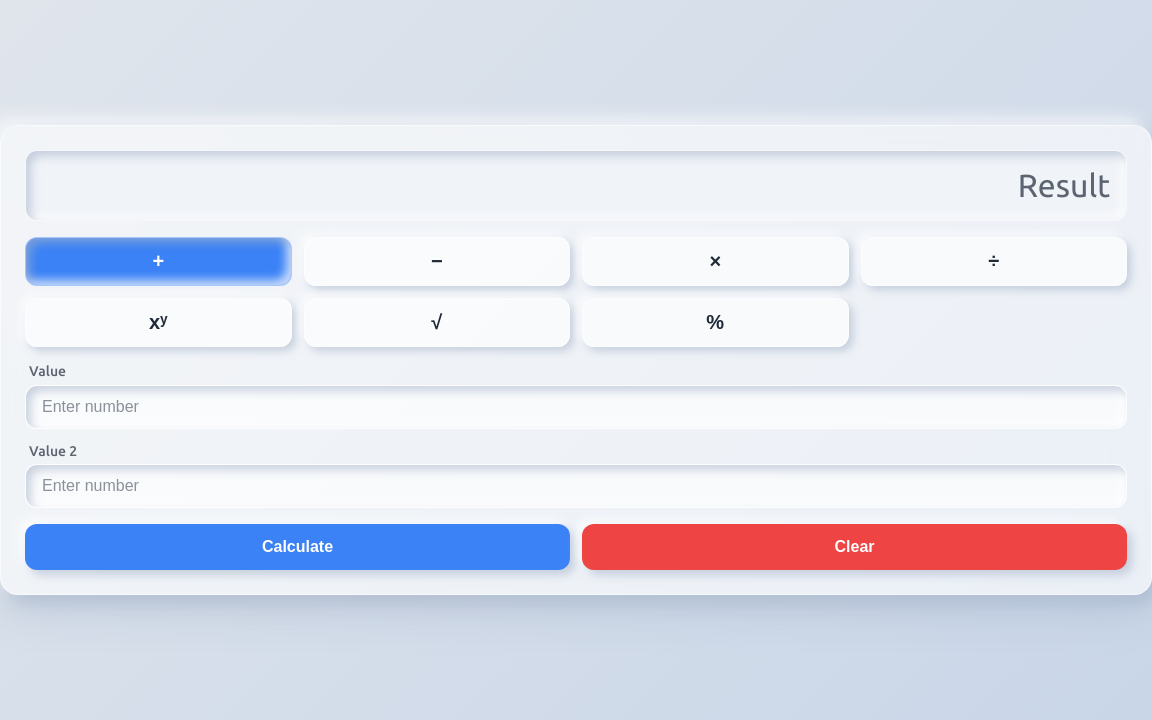
Scenario: Calculator handleCalculate › shows a validation error when operand a is empty
The width and height of the screenshot is (1152, 720).
Click the button with test id "calculate-btn".
click(298, 547)  # box [25,524,570,570]
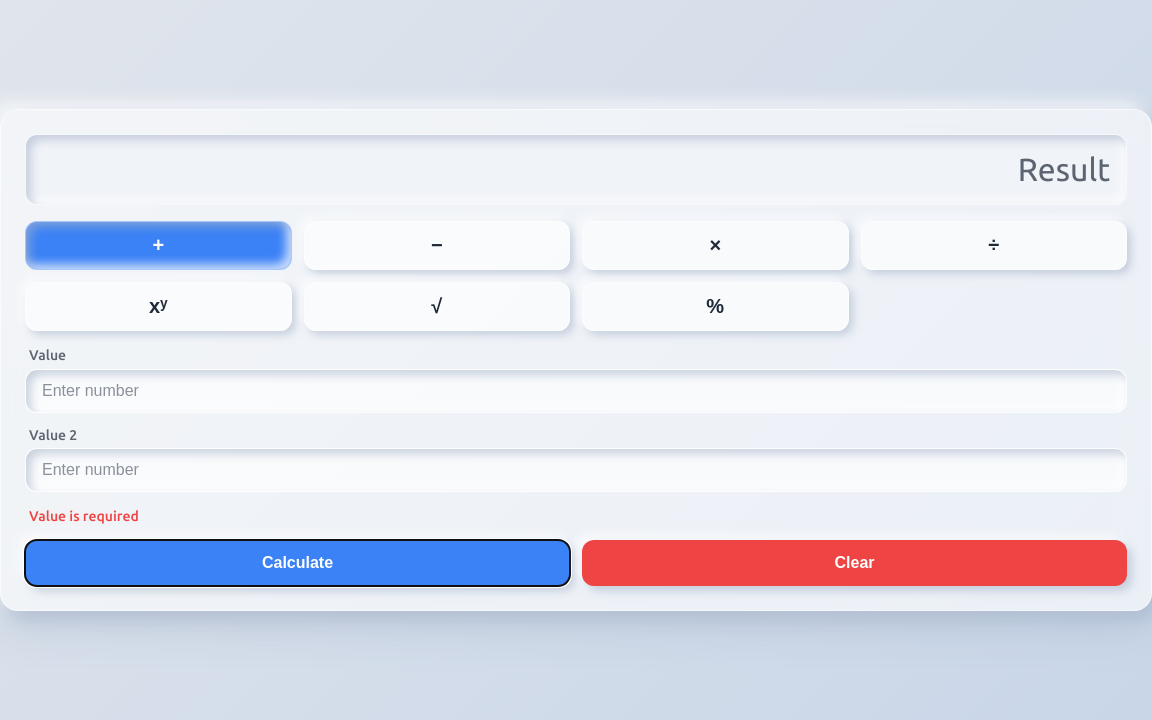
Result: the message with test id "input-error" reads "Value is required" at [29,508,139,524]
